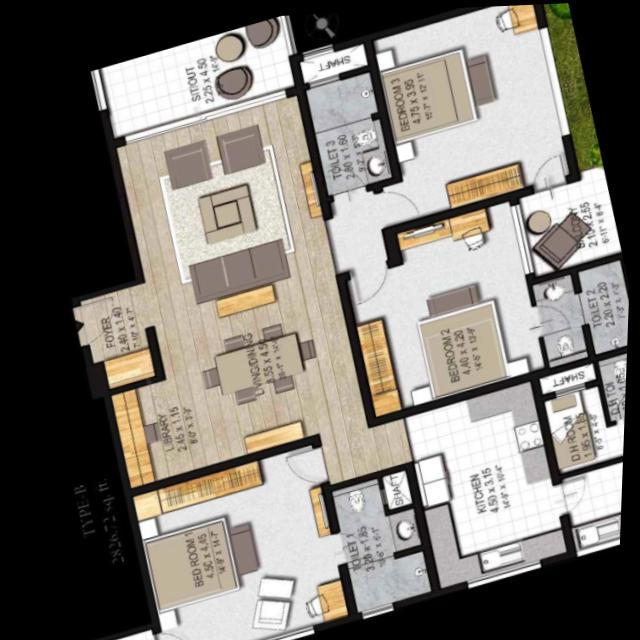Balcony-Sitout: (92, 12, 308, 136), (513, 166, 626, 282)
Bedroom: (335, 192, 561, 427), (542, 375, 625, 481)
Bedroom with Toilet: (294, 3, 579, 244), (138, 435, 440, 640)
Dining: (197, 306, 332, 415)
Enterance-Foyer: (69, 283, 145, 344)
Kitchen: (398, 372, 583, 600)
Living: (112, 81, 344, 333)
Toilet: (331, 456, 453, 621), (302, 62, 402, 196), (530, 252, 632, 375), (595, 345, 630, 425)
Utility: (562, 459, 627, 556)
